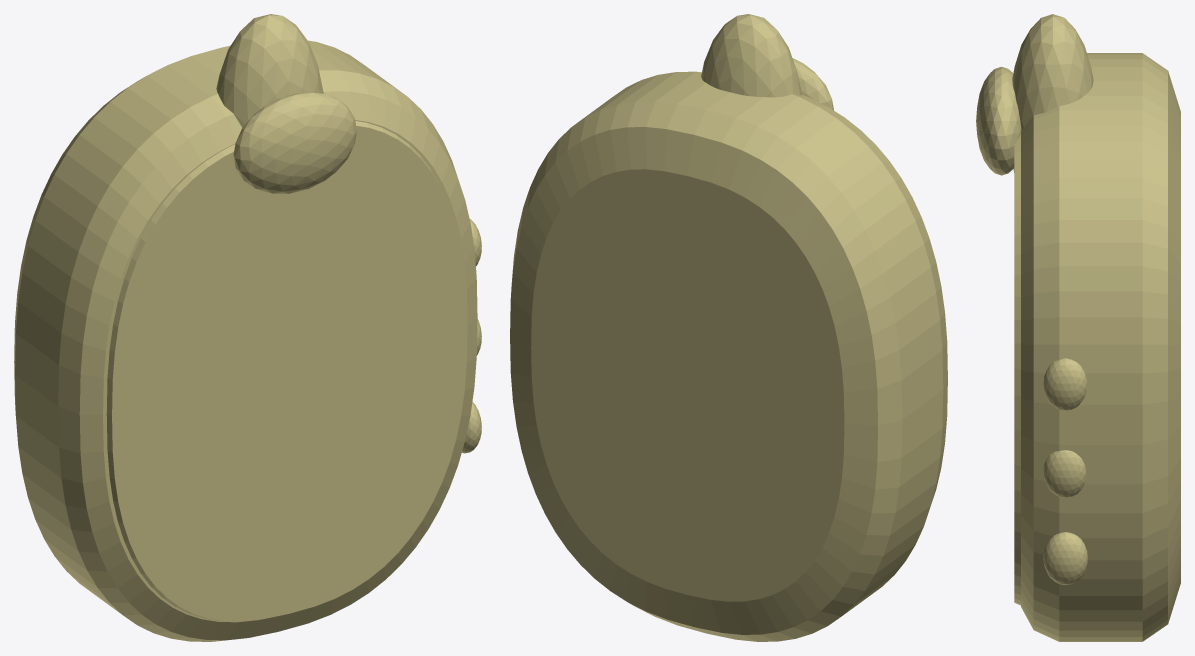
The picture shows the model from 3 angles, left to right: view 1: azimuth 30°, elevation 25°; view 2: azimuth 150°, elevation 25°; view 3: azimuth 270°, elevation 25°; orthographic projection. The views are drawn at different scales.
Visible parts, largest first — view 1: geometry_0; view 2: geometry_0; view 3: geometry_0.
Part boxes in pixels (x1,y1,x2,y2): geometry_0: (14, 14, 481, 641); geometry_0: (510, 14, 947, 641); geometry_0: (976, 14, 1180, 641).
Bounding box in the file's own units: 73.5 × 103 × 32.
